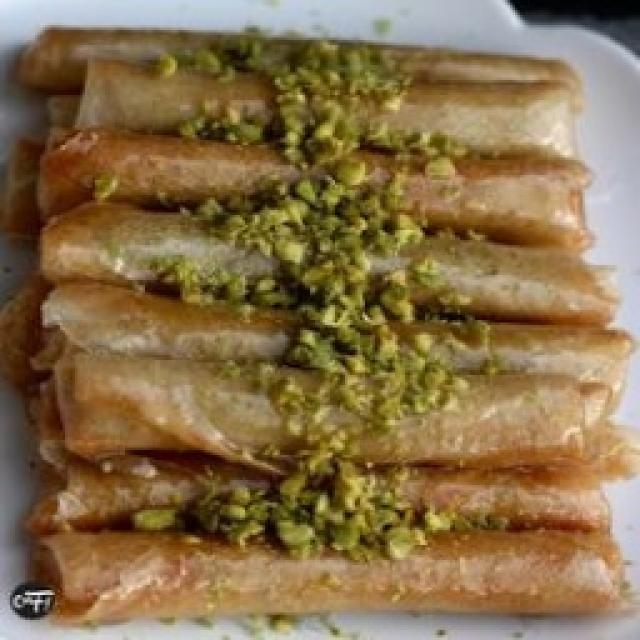Brik: (0, 28, 636, 622)
